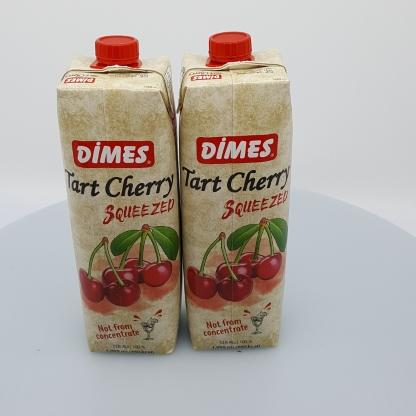DIMES--------1000ML: (56, 35, 181, 354), (176, 31, 293, 350)
